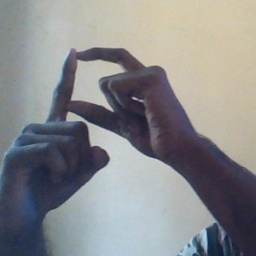D: (30, 41, 155, 159)
